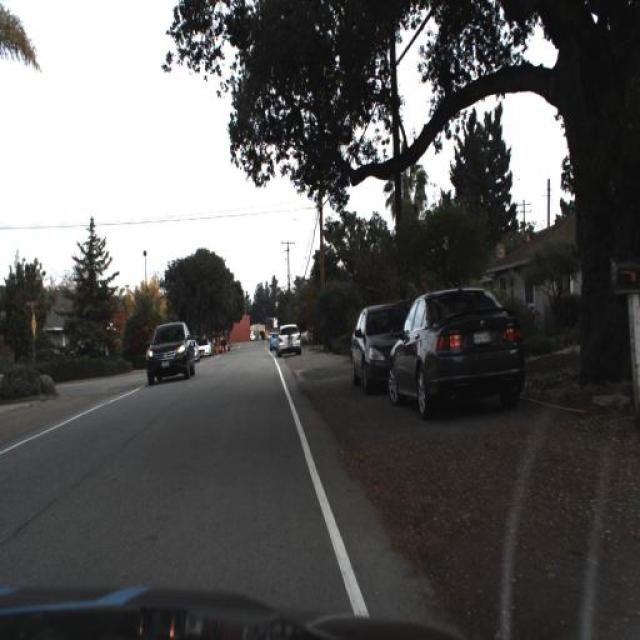car: (387, 282, 519, 418), (348, 300, 412, 391), (142, 318, 196, 392)
